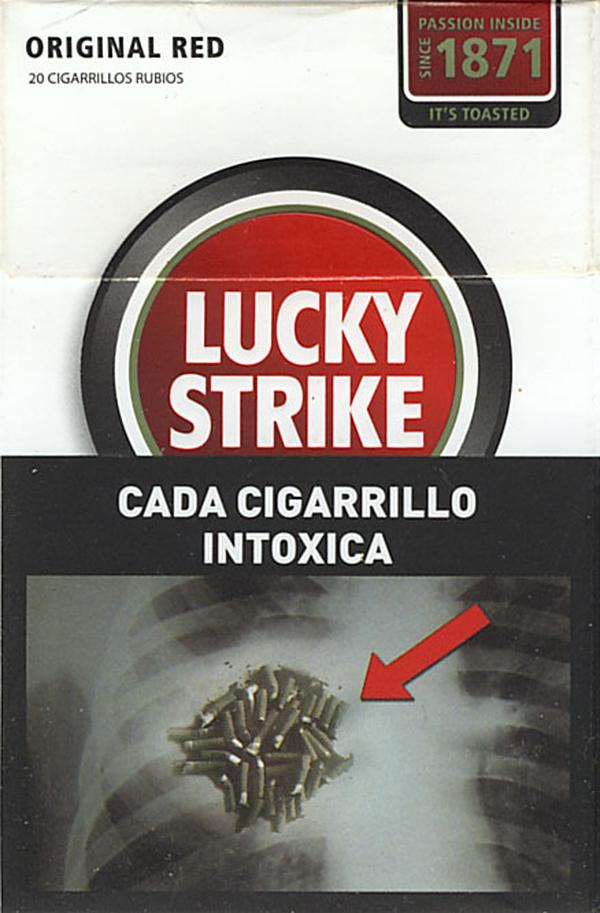lucky_strike_red: (3, 8, 597, 913)
